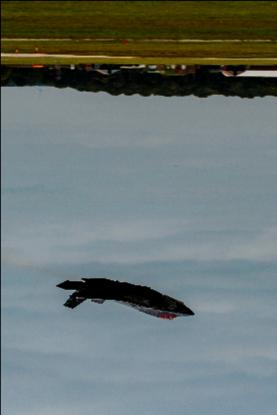F22: (55, 278, 194, 320)
